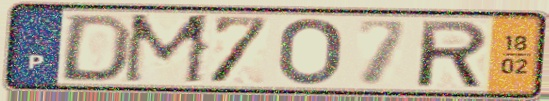7: (210, 15, 271, 86), (355, 17, 409, 88)
D: (55, 12, 137, 84)
M: (119, 12, 216, 87)
O: (275, 16, 345, 88)
R: (417, 18, 491, 90)
